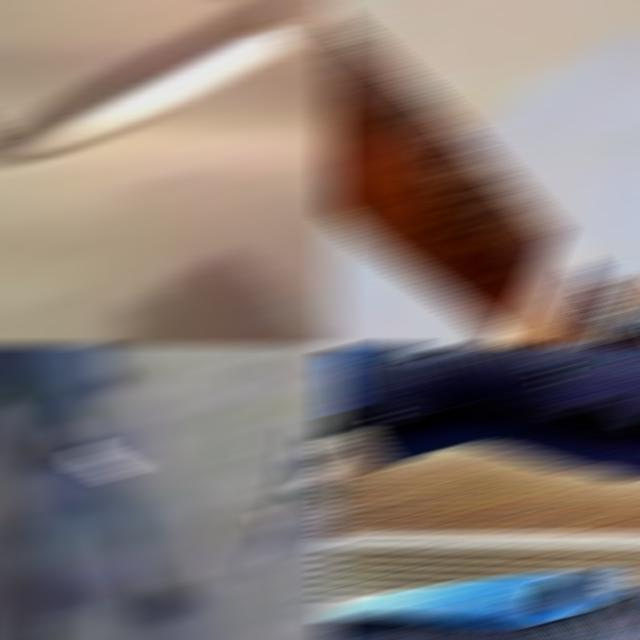Knife_Handle: (0, 2, 340, 163), (47, 419, 139, 480)
